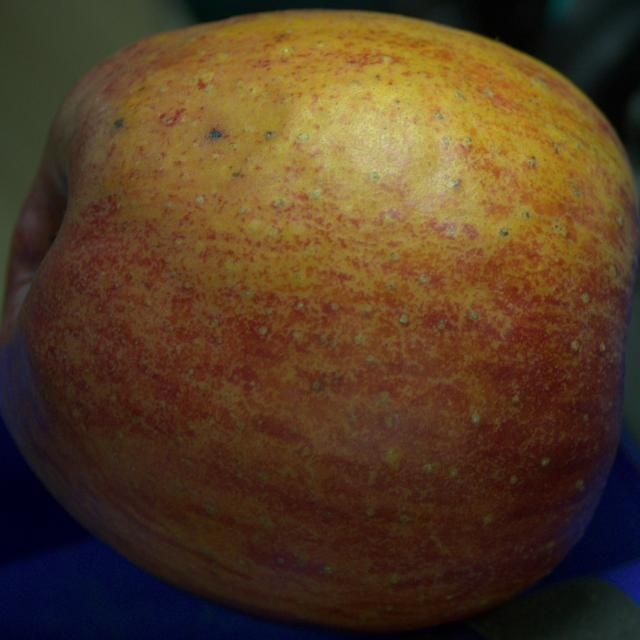apple: (0, 11, 639, 632)
pest: (208, 129, 222, 139), (114, 118, 123, 128)
